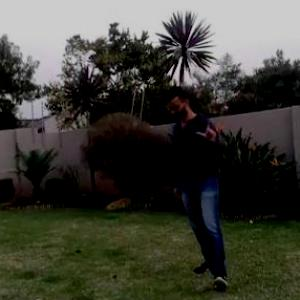land_hand: (194, 113, 222, 142)
